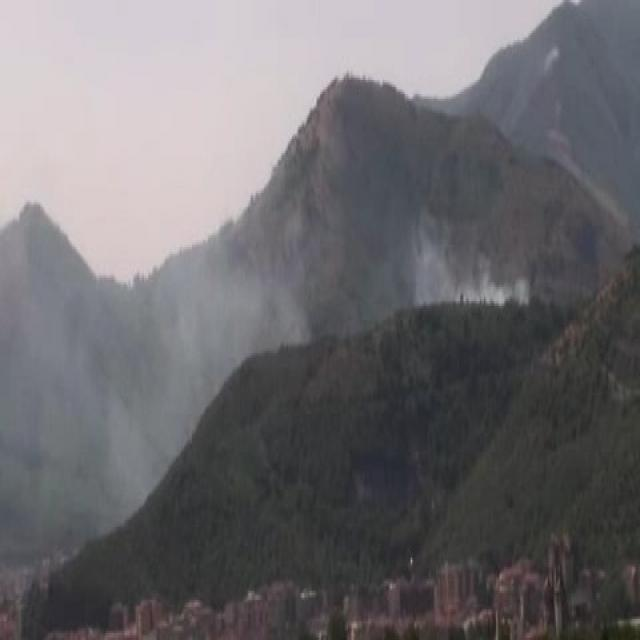smoke: (148, 237, 306, 350), (409, 250, 526, 302)
